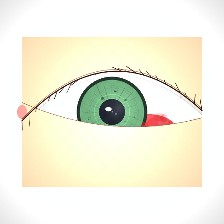hemorrhage_spot: (109, 97, 185, 158)
